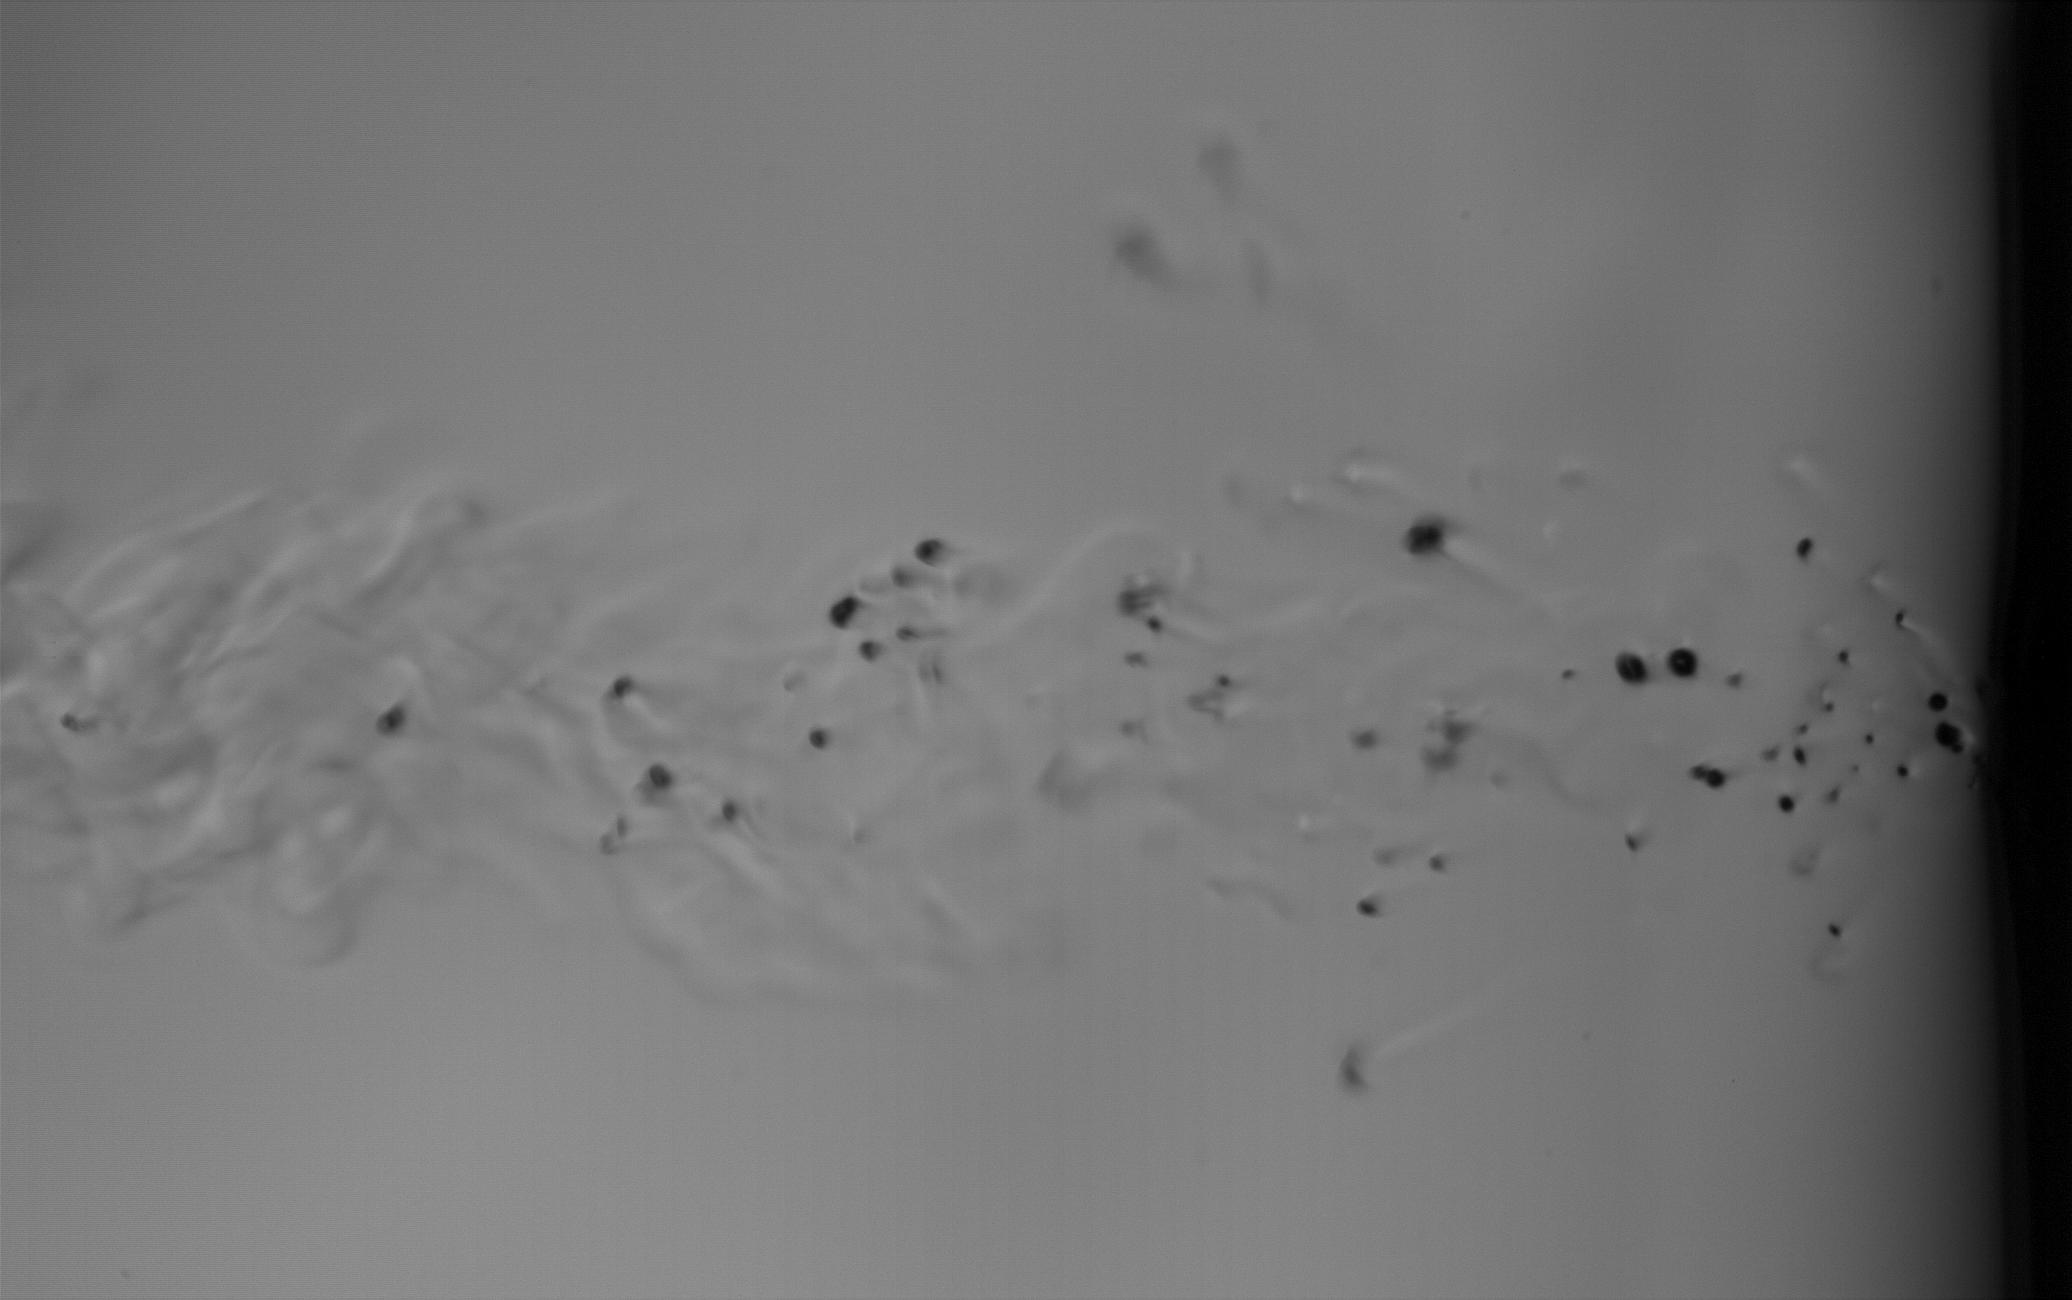Blurry: (1931, 716, 1963, 750), (609, 672, 636, 702), (1349, 728, 1383, 750), (915, 541, 942, 568), (1686, 756, 1713, 780), (1822, 785, 1844, 810), (1726, 671, 1749, 693), (1761, 743, 1783, 762), (895, 625, 918, 643)
ClassicalEvaporation: (1398, 514, 1448, 563), (1611, 647, 1650, 687), (1662, 643, 1698, 681), (1424, 848, 1451, 875), (1707, 765, 1732, 792), (1355, 894, 1380, 921), (804, 725, 829, 752), (1776, 792, 1797, 815), (1925, 692, 1946, 713), (1560, 665, 1578, 683), (1214, 672, 1231, 690), (1145, 616, 1160, 634), (1838, 650, 1849, 663), (1823, 701, 1834, 714), (1894, 611, 1904, 622), (1798, 723, 1809, 734), (1898, 765, 1907, 777), (1954, 744, 1963, 753), (1853, 765, 1859, 771)
DiffusiveMixing: (829, 595, 862, 629), (858, 635, 883, 660)
TransitionalMixing: (647, 759, 672, 791), (722, 798, 735, 821), (1794, 744, 1806, 765), (1828, 921, 1841, 938), (1800, 539, 1812, 556), (1627, 836, 1636, 851), (1865, 732, 1871, 743)
